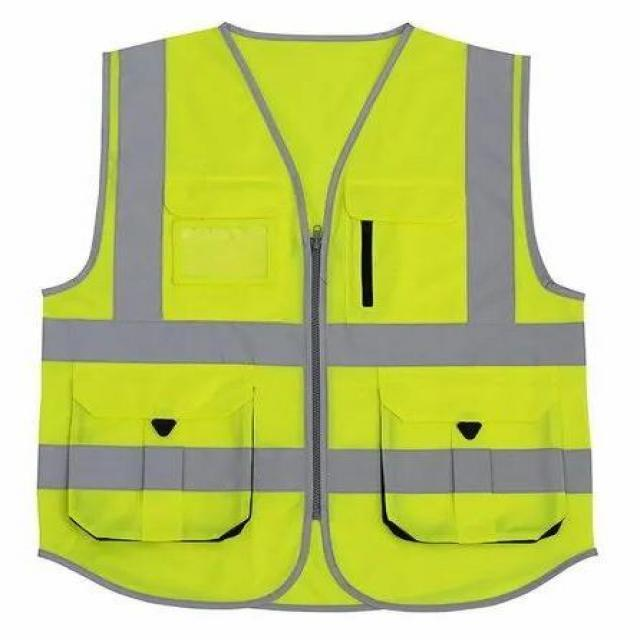reflective_jacket: (1, 7, 625, 638)
